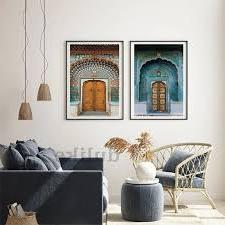chair: (138, 140, 215, 214)
light: (30, 0, 52, 103), (15, 0, 32, 121)
sofa: (0, 139, 105, 225)
table: (118, 179, 167, 221)
